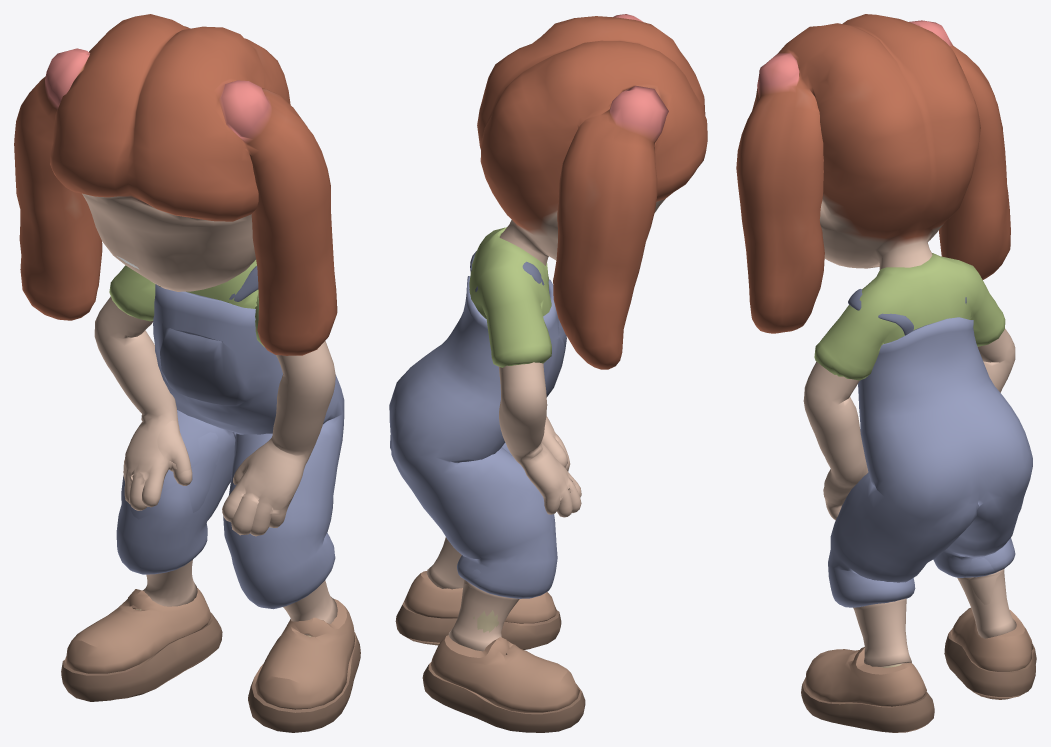
3 views of the same model, side by side, from view 1: azimuth 30°, elevation 25°; view 2: azimuth 150°, elevation 25°; view 3: azimuth 270°, elevation 25° (orthographic). The views are drawn at different scales.
Parts seen in each view (by area): view 1: Arms.034; view 2: Arms.034; view 3: Arms.034.
Boxes of the visible parts, x1,y1,x2,y2 form: Arms.034: (14, 14, 360, 732); Arms.034: (389, 14, 707, 732); Arms.034: (736, 14, 1036, 732).
Bounding box in the file's own units: 68.26 × 148 × 63.33.
